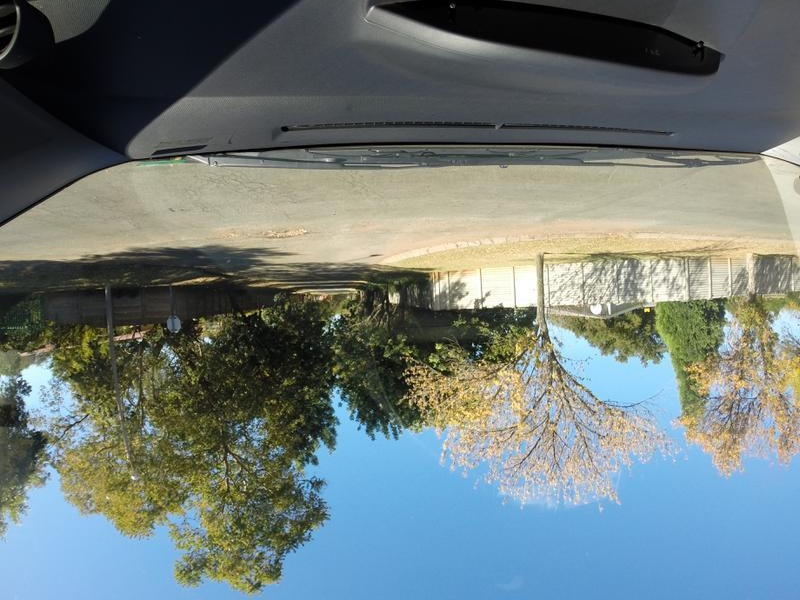pothole: (196, 216, 322, 245)
